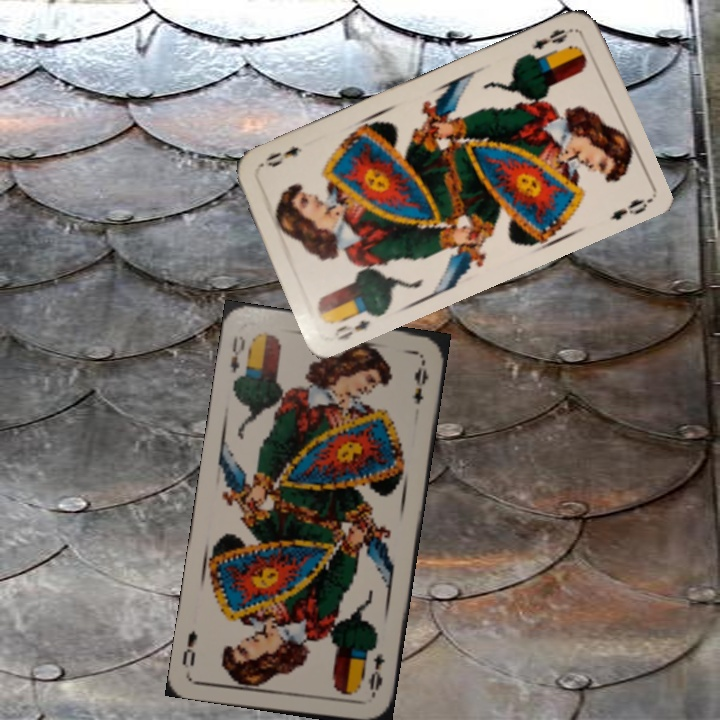EO: (330, 316, 373, 344), (365, 649, 388, 701), (528, 25, 570, 53), (226, 332, 248, 376)
